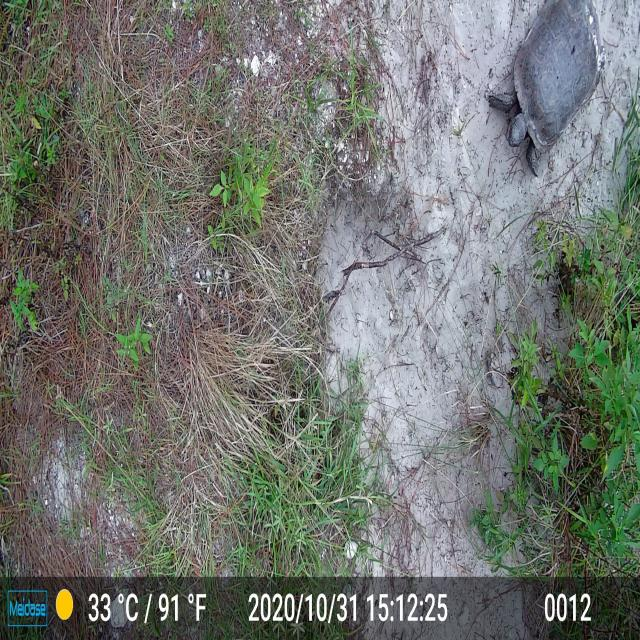tortoise: (487, 0, 602, 182)
